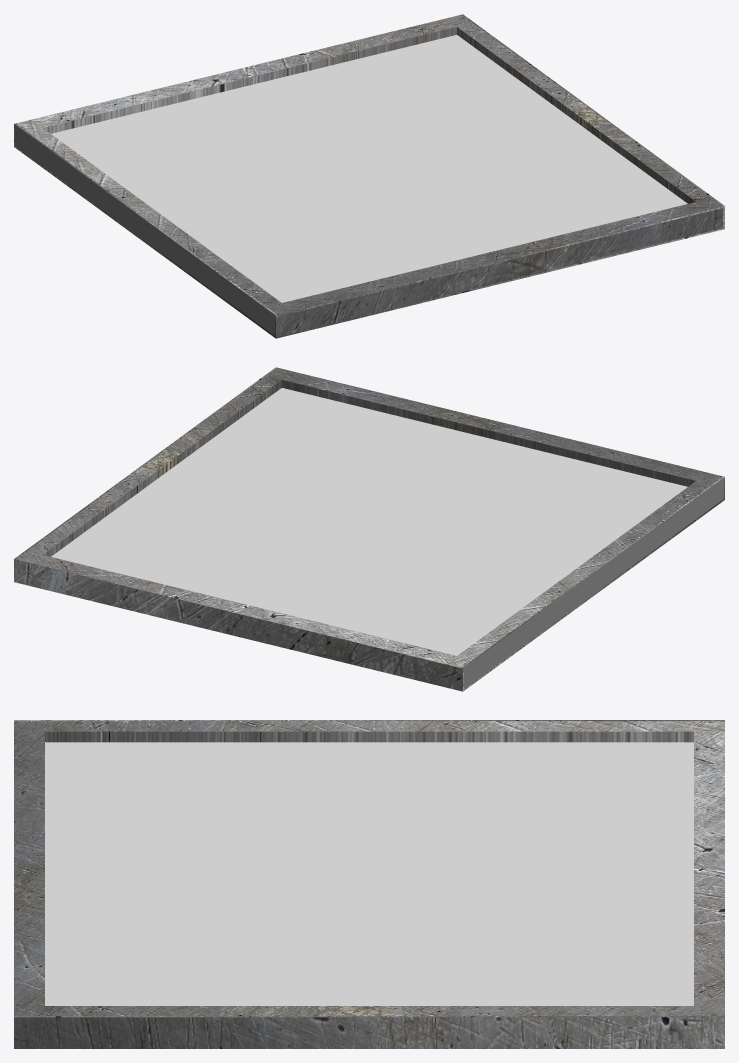
The model's file is plastine.fbx.
3 views of the same model, one above another, from view 1: azimuth 30°, elevation 25°; view 2: azimuth 150°, elevation 25°; view 3: azimuth 270°, elevation 25° (orthographic). The views are drawn at different scales.
Visible parts, largest first — view 1: Cube; view 2: Cube; view 3: Cube.
Boxes of the visible parts, left/top/right/bottom form: Cube: left=14, top=14, right=724, bottom=338; Cube: left=14, top=367, right=724, bottom=691; Cube: left=14, top=720, right=724, bottom=1048.
Bounding box in the file's own units: 217 × 10.67 × 219.
